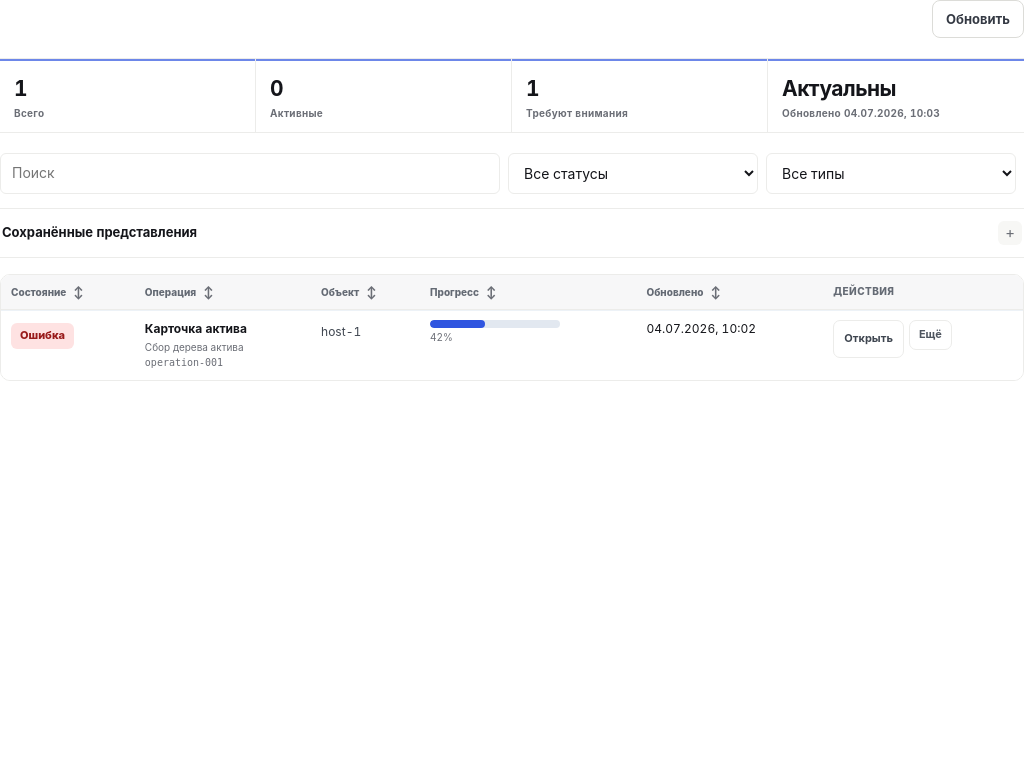
Test: OperationsPage critical states › retries a failed operation with an idempotency key
Step 1. Click the button "Открыть" → coordinates (869, 339), box [833,320,904,358]
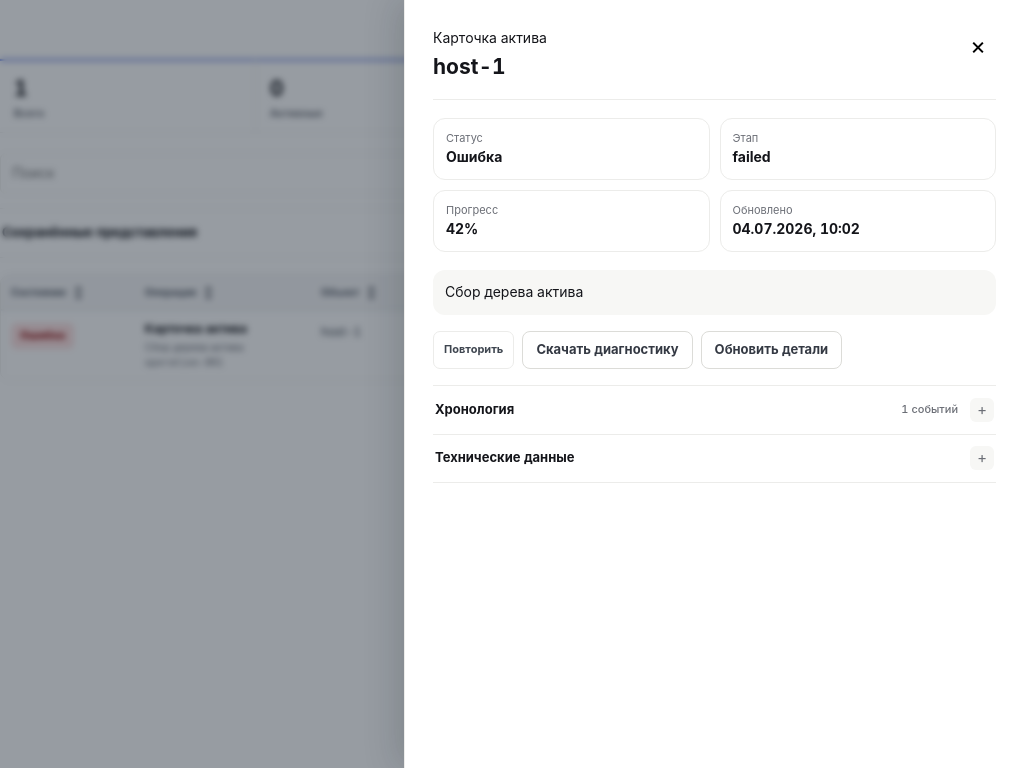
Expected: the dialog is shown
Step 2. Click the button "Повторить" → coordinates (474, 350), box [433,330,514,368]
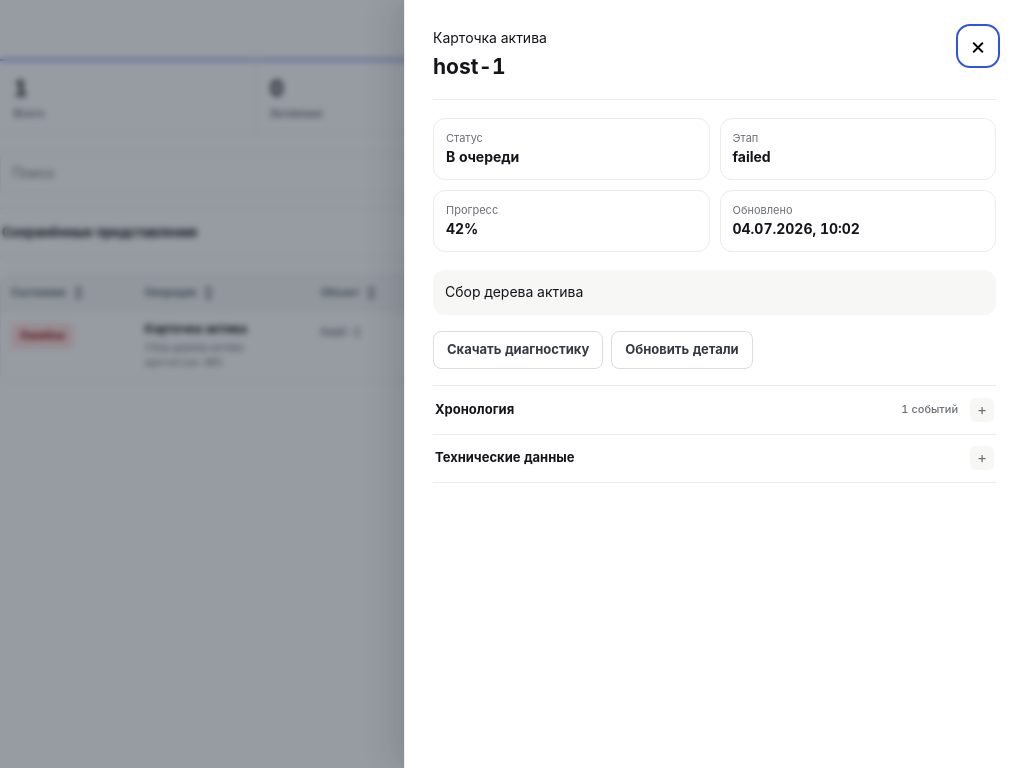
Expected: the text "В очереди" is shown, [446,148,519,165]
